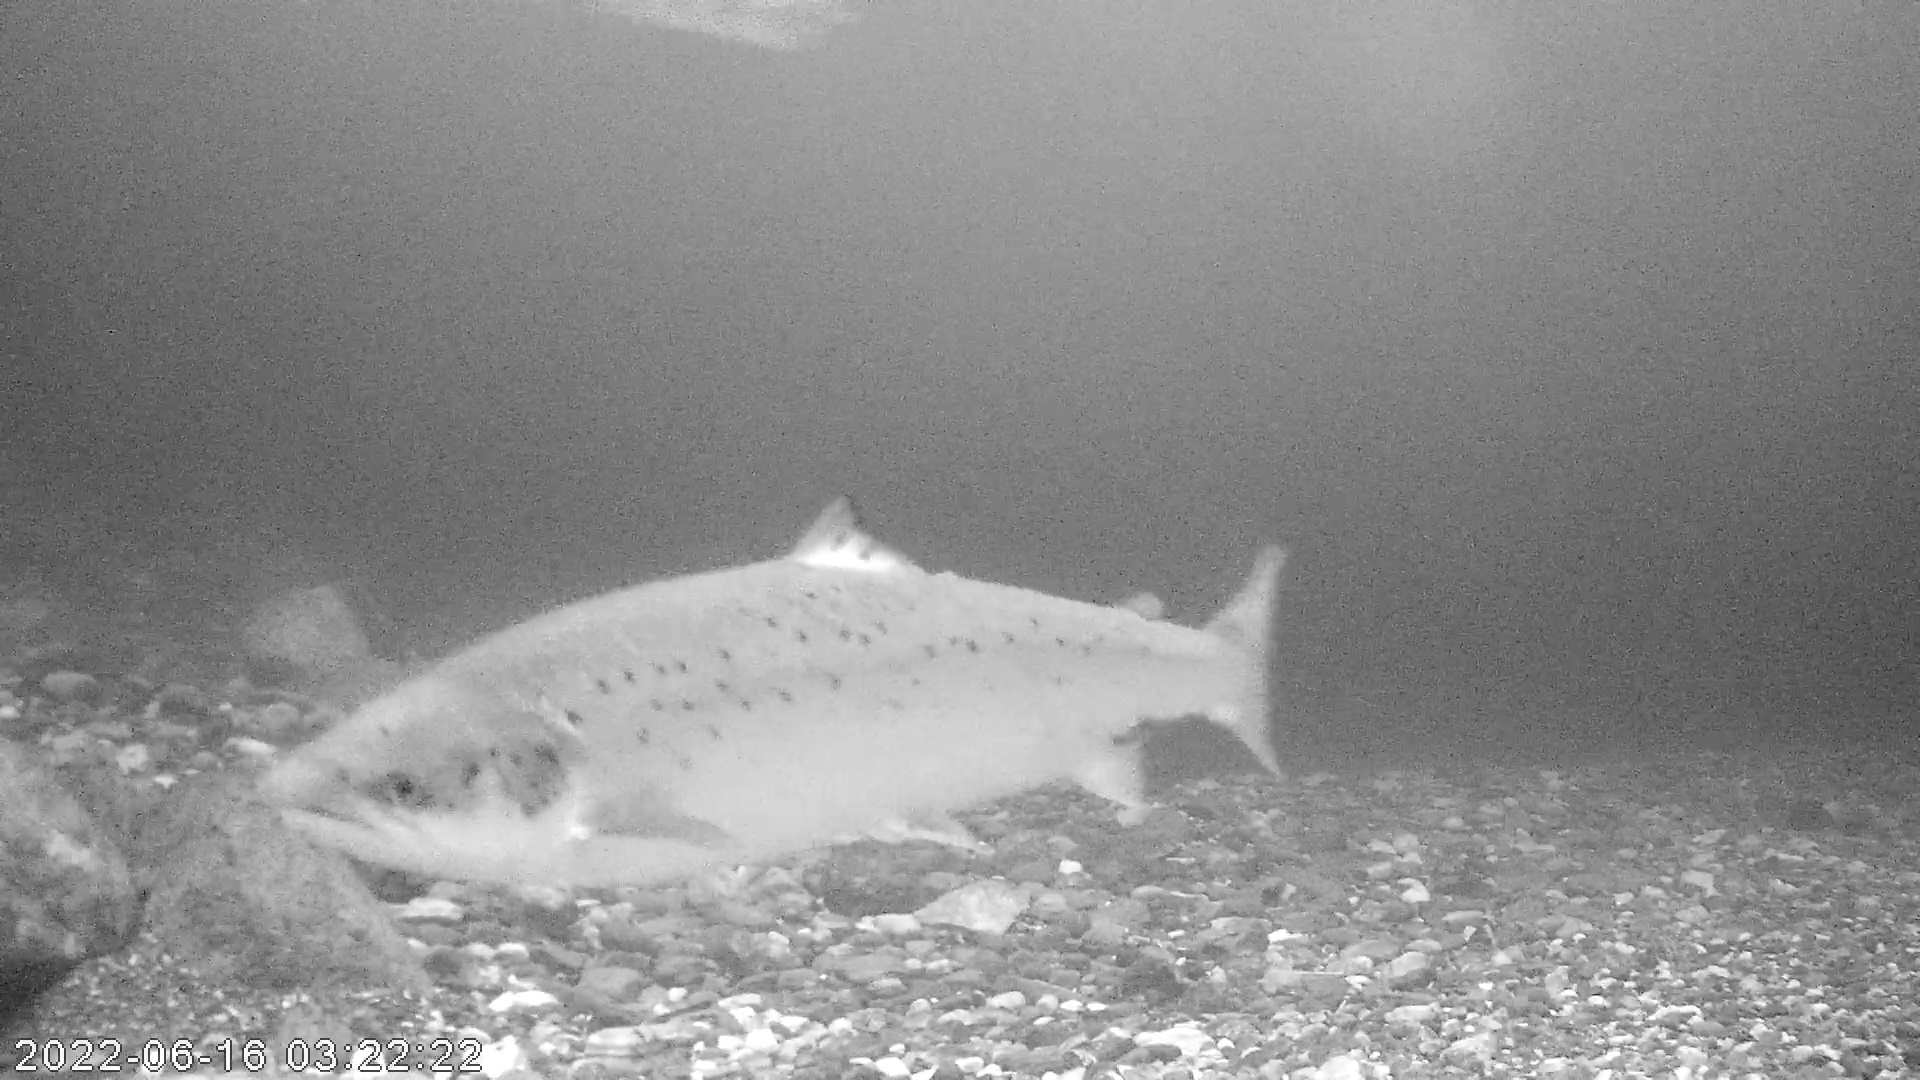salmon: (256, 491, 1284, 894)
